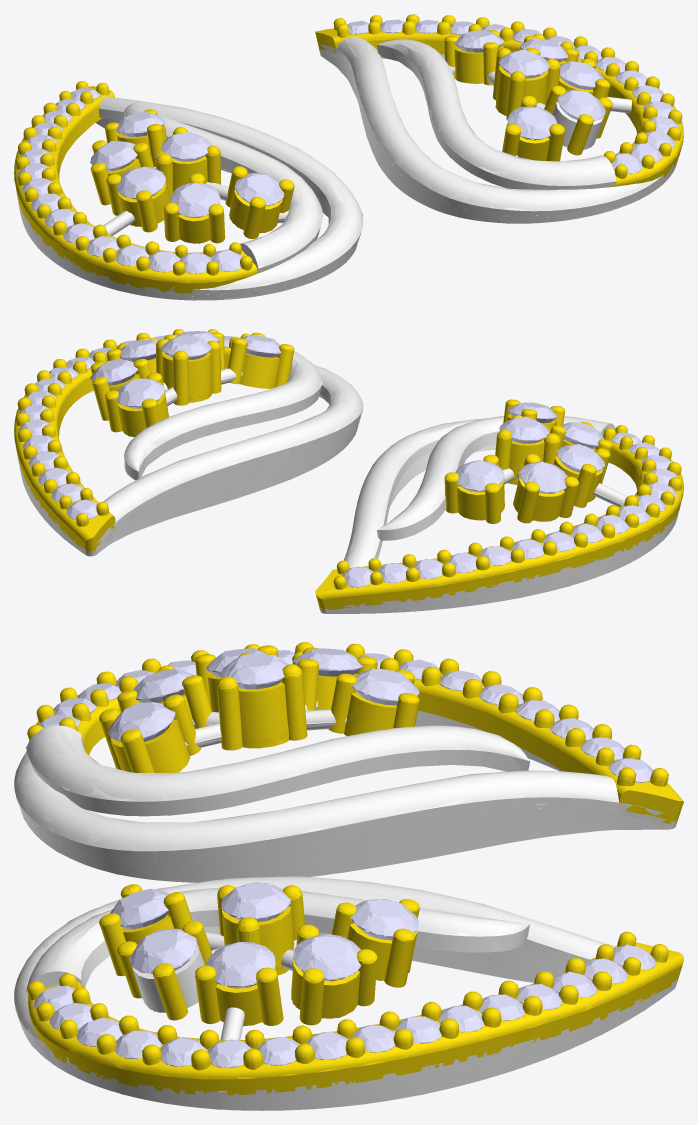
3 views of the same model, one above another, from view 1: azimuth 30°, elevation 25°; view 2: azimuth 150°, elevation 25°; view 3: azimuth 270°, elevation 25° (orthographic). The views are drawn at different scales.
Parts seen in each view (by area): view 1: highPolyMesh, lowPolyMesh; view 2: highPolyMesh, lowPolyMesh; view 3: highPolyMesh, lowPolyMesh.
Boxes of the visible parts, box(x1,y1,x2,y2) form: highPolyMesh: box(14, 14, 683, 300); lowPolyMesh: box(14, 14, 683, 300); highPolyMesh: box(14, 329, 683, 613); lowPolyMesh: box(14, 329, 683, 613); highPolyMesh: box(14, 642, 683, 1110); lowPolyMesh: box(14, 643, 683, 1110).
Bounding box in the file's own units: 0.0225 × 0.00336 × 0.0154.
